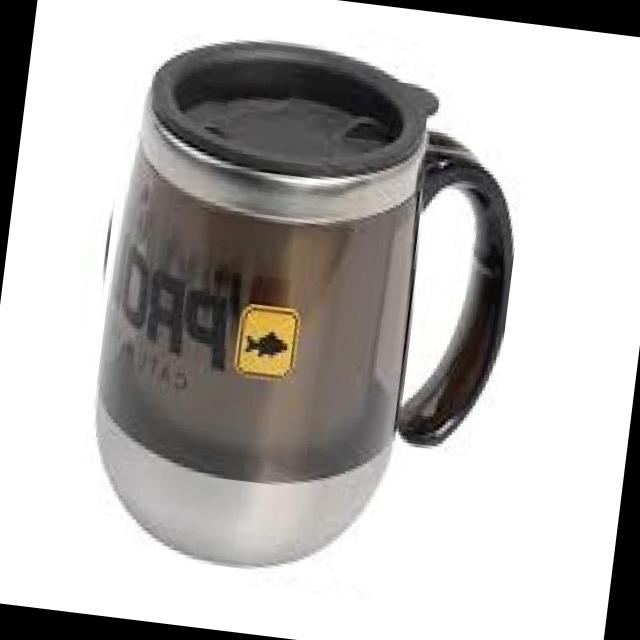Coffee Mug: (78, 24, 534, 592)
